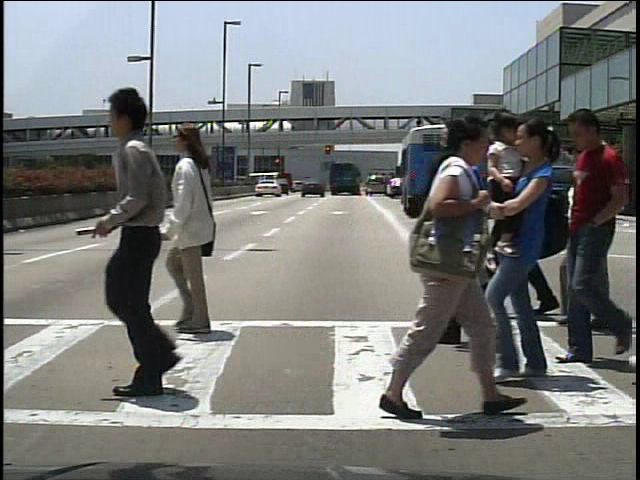person: (373, 112, 504, 425), (80, 79, 202, 400), (143, 119, 262, 343), (557, 106, 630, 374), (473, 130, 545, 322), (570, 142, 622, 343), (455, 117, 479, 342), (582, 168, 602, 218), (489, 162, 507, 215)
